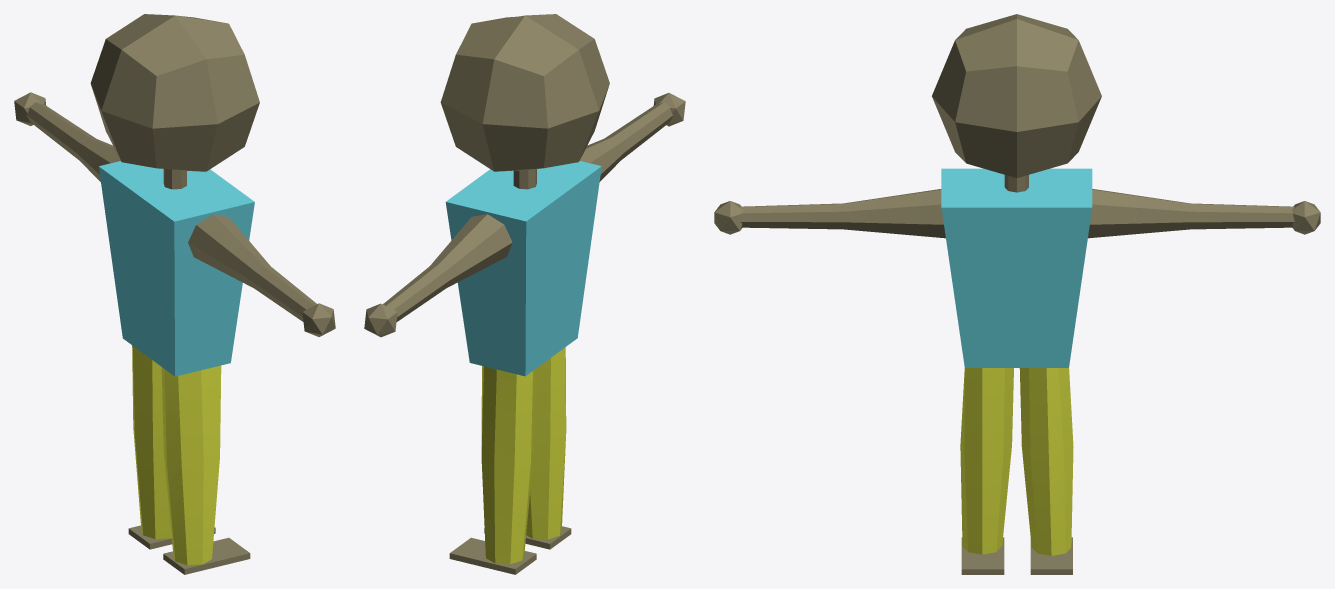
Rendered from Character.fbx.
3 views of the same model, side by side, from view 1: azimuth 30°, elevation 25°; view 2: azimuth 150°, elevation 25°; view 3: azimuth 270°, elevation 25° (orthographic).
Visible parts, largest first — view 1: Cube.002, Cube, Cube.003, Cube.004, Cube.005, Cube.006, Cube.007, Cube.009, Cube.010, Cube.008, Cube.001; view 2: Cube.002, Cube, Cube.004, Cube.003, Cube.006, Cube.005, Cube.008, Cube.010, Cube.009, Cube.001, Cube.007; view 3: Cube.002, Cube, Cube.004, Cube.003, Cube.006, Cube.005, Cube.007, Cube.008, Cube.010, Cube.009.
Boxes of the visible parts, x1=… form: Cube.002: x1=98, y1=161, x2=254, y2=376; Cube: x1=90, y1=14, x2=259, y2=171; Cube.003: x1=161, y1=365, x2=221, y2=565; Cube.004: x1=132, y1=345, x2=171, y2=539; Cube.005: x1=188, y1=214, x2=316, y2=321; Cube.006: x1=26, y1=102, x2=120, y2=181; Cube.007: x1=163, y1=537, x2=250, y2=574; Cube.009: x1=302, y1=303, x2=335, y2=336; Cube.010: x1=14, y1=92, x2=46, y2=125; Cube.008: x1=128, y1=525, x2=215, y2=549; Cube.001: x1=163, y1=169, x2=186, y2=189; Cube.002: x1=445, y1=161, x2=601, y2=376; Cube: x1=440, y1=14, x2=609, y2=171; Cube.004: x1=481, y1=366, x2=535, y2=564; Cube.003: x1=526, y1=347, x2=566, y2=539; Cube.006: x1=383, y1=214, x2=512, y2=321; Cube.005: x1=580, y1=102, x2=673, y2=181; Cube.008: x1=449, y1=537, x2=536, y2=574; Cube.010: x1=364, y1=303, x2=397, y2=337; Cube.009: x1=653, y1=93, x2=685, y2=126; Cube.001: x1=513, y1=169, x2=536, y2=189; Cube.007: x1=484, y1=526, x2=571, y2=549; Cube.002: x1=941, y1=168, x2=1092, y2=367; Cube: x1=932, y1=14, x2=1101, y2=178; Cube.004: x1=1019, y1=368, x2=1073, y2=555; Cube.003: x1=960, y1=368, x2=1013, y2=554; Cube.006: x1=1088, y1=189, x2=1294, y2=238; Cube.005: x1=740, y1=189, x2=945, y2=238; Cube.007: x1=961, y1=537, x2=1004, y2=574; Cube.008: x1=1030, y1=537, x2=1072, y2=574; Cube.010: x1=1292, y1=201, x2=1320, y2=234; Cube.009: x1=714, y1=201, x2=742, y2=234.
Size of the model in its own units: 168 by 580 by 598.
